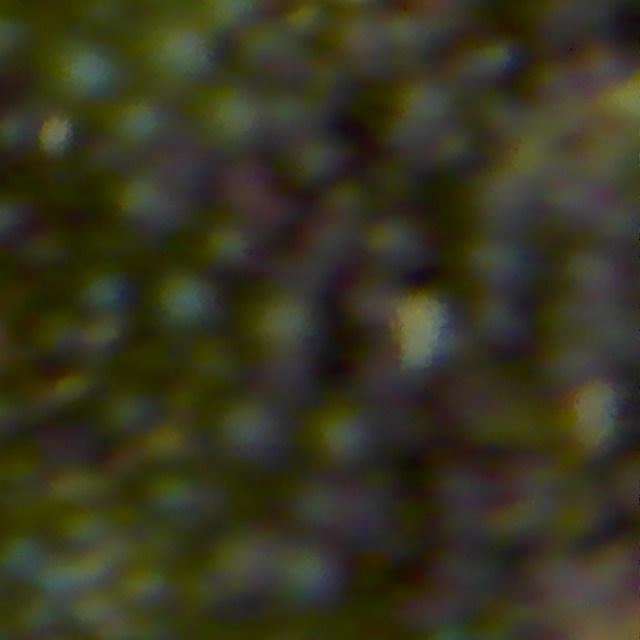SeaGrape: (245, 291, 325, 377), (139, 11, 217, 92), (213, 394, 289, 471), (47, 35, 121, 109), (195, 83, 270, 155), (208, 528, 282, 600), (115, 170, 191, 238), (362, 209, 434, 278), (237, 16, 309, 84), (290, 474, 363, 540), (145, 468, 222, 530), (308, 404, 377, 472), (152, 267, 220, 334), (276, 542, 342, 608), (106, 94, 172, 155), (286, 130, 350, 188), (186, 336, 242, 391), (203, 220, 257, 275), (98, 387, 156, 438), (76, 268, 130, 320)
